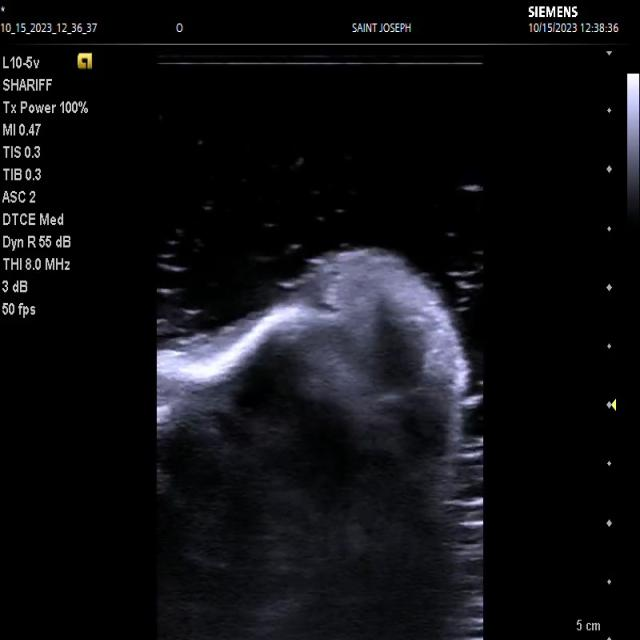tissue: (157, 242, 482, 640)
